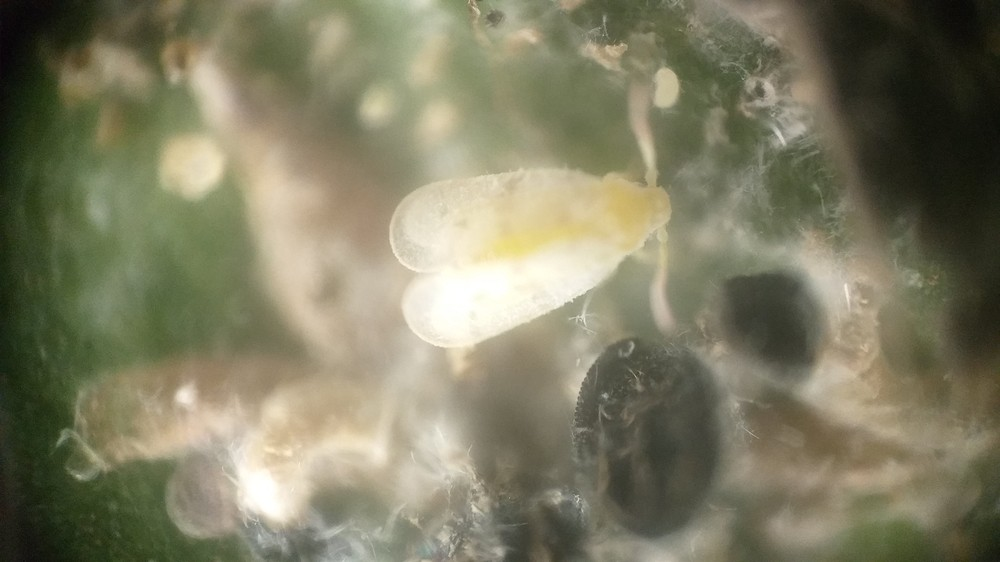Mosca Blanca: (360, 76, 704, 365)
